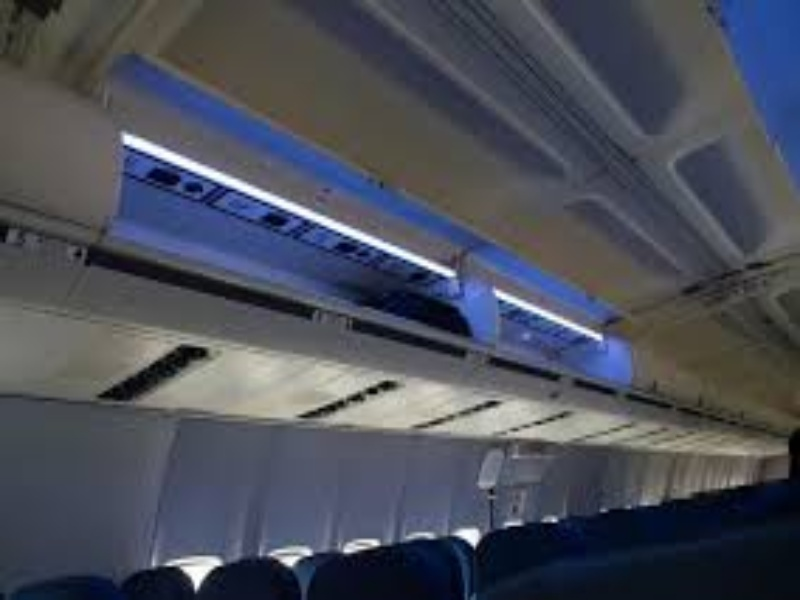close_bin: (2, 32, 127, 274), (611, 327, 684, 410), (712, 370, 770, 438), (673, 353, 723, 423)
open_bin: (104, 57, 509, 385), (471, 222, 636, 405)
